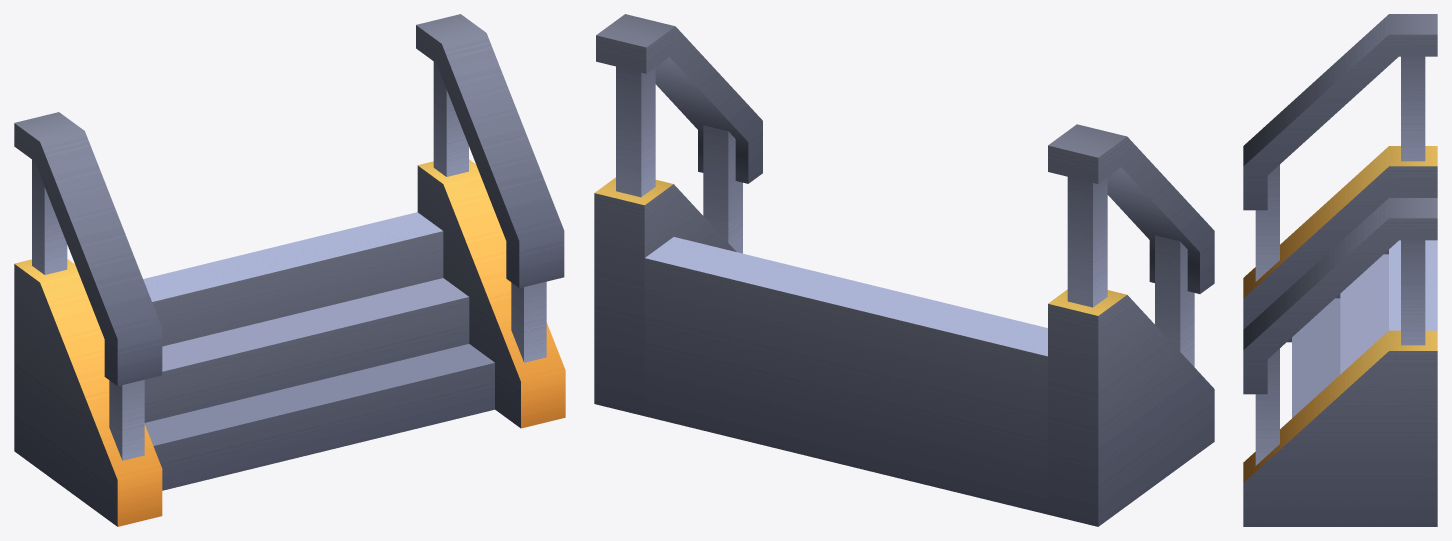
File: stairs_small_edges_handrail.glb
3 views of the same model, side by side, from view 1: azimuth 30°, elevation 25°; view 2: azimuth 150°, elevation 25°; view 3: azimuth 270°, elevation 25° (orthographic). The views are drawn at different scales.
Visible parts, largest first — view 1: stairs-small-edges-handrail; view 2: stairs-small-edges-handrail; view 3: stairs-small-edges-handrail.
Boxes of the visible parts, x1,y1,x2,y2 form: stairs-small-edges-handrail: (14, 14, 565, 526); stairs-small-edges-handrail: (594, 14, 1214, 526); stairs-small-edges-handrail: (1243, 14, 1437, 526).
Size of the model in its own units: 1 by 0.7 by 0.4.
Materials: 1 (1 with a texture image).
